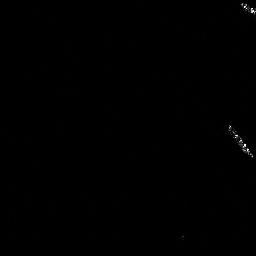ship: (227, 123, 254, 160)
